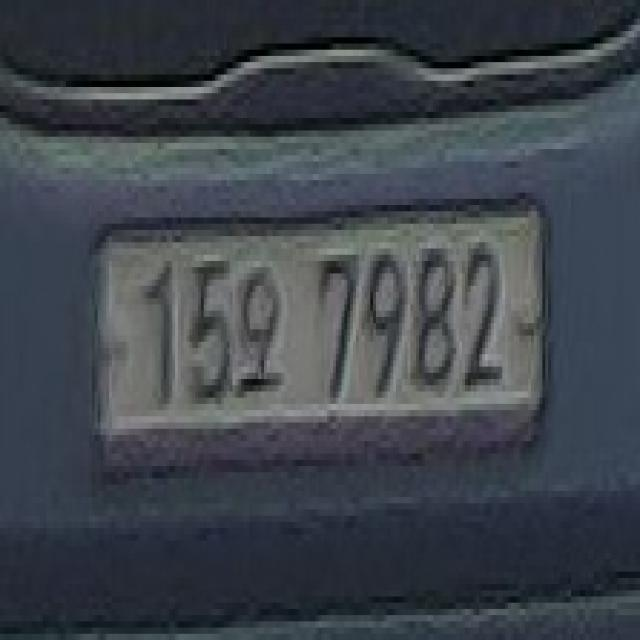1: (140, 243, 180, 417)
2: (459, 236, 505, 410)
5: (187, 242, 236, 422)
7: (313, 242, 364, 410)
8: (411, 242, 456, 410)
9: (362, 242, 411, 410)
license_plate: (86, 192, 554, 491)
o: (235, 242, 290, 410)
